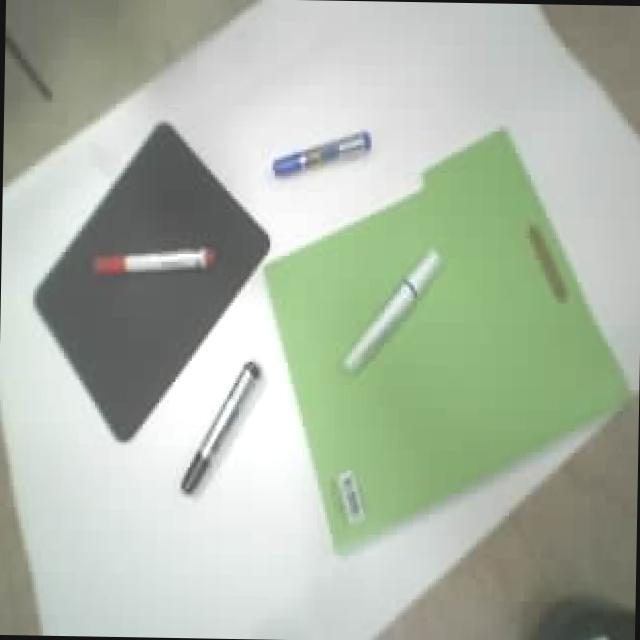board-marker: (338, 242, 444, 384), (176, 359, 265, 505), (267, 124, 376, 183), (87, 243, 219, 280)
